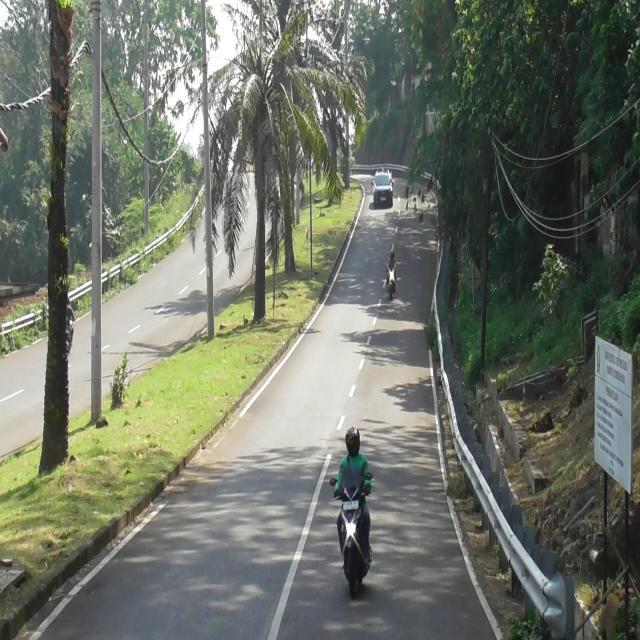motorcycle: (332, 476, 373, 600), (386, 269, 397, 299)
person: (334, 427, 374, 497), (386, 251, 397, 273)
rider_region: (334, 423, 374, 602), (386, 250, 398, 300)
